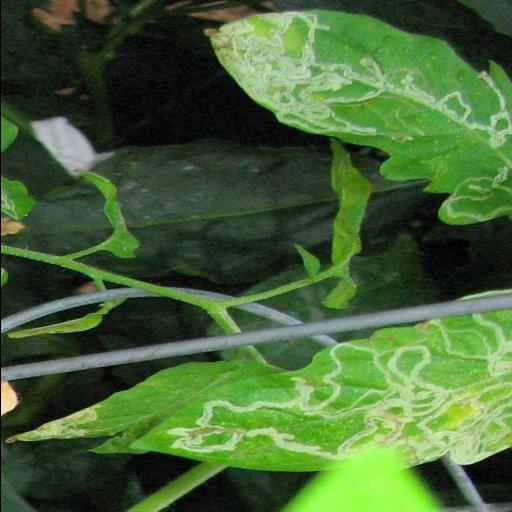Leaf Miner: (207, 10, 512, 224), (128, 312, 512, 472)
